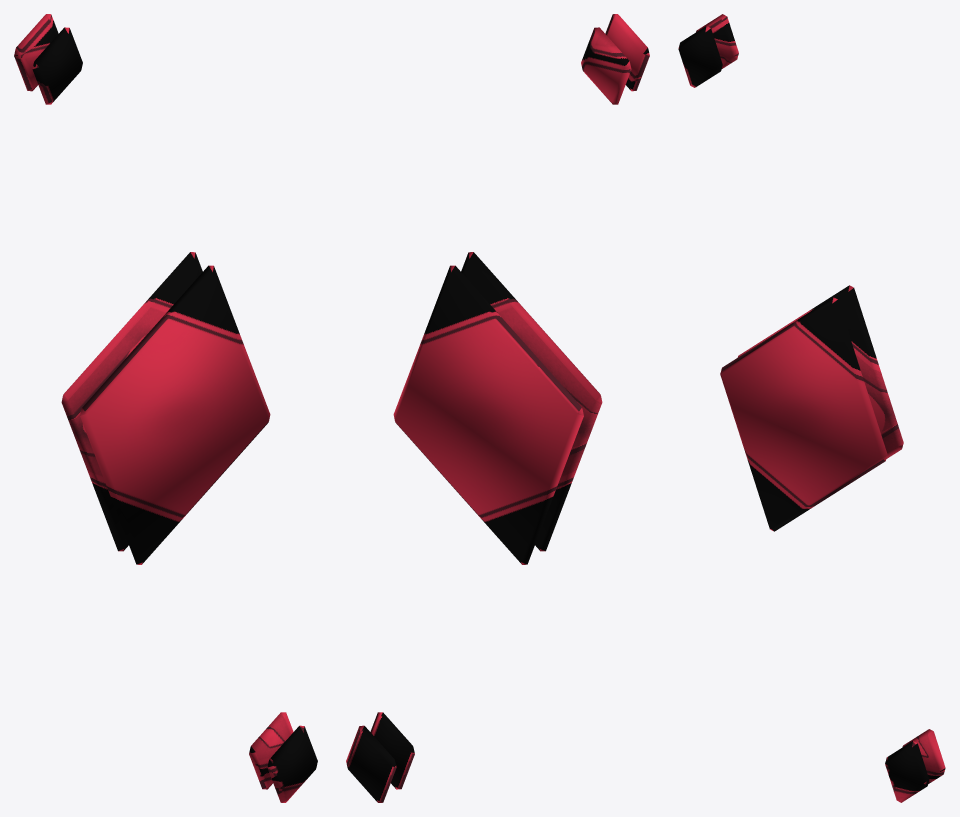
The model's file is Mascarada_Baston_Cofradia.fbx.
3 renders of one model, left to right at view 1: azimuth 30°, elevation 25°; view 2: azimuth 150°, elevation 25°; view 3: azimuth 330°, elevation 25°, orthographic. The views are drawn at different scales.
Parts seen in each view (by area): view 1: Mascarada_Baston_Cofradia; view 2: Mascarada_Baston_Cofradia; view 3: Mascarada_Baston_Cofradia.
Boxes of the visible parts, left/top/right/bottom form: Mascarada_Baston_Cofradia: left=14, top=14, right=317, bottom=802; Mascarada_Baston_Cofradia: left=346, top=14, right=649, bottom=802; Mascarada_Baston_Cofradia: left=678, top=14, right=945, bottom=802.
Bounding box in the file's own units: 0.3203 × 0.8895 × 0.0464.
